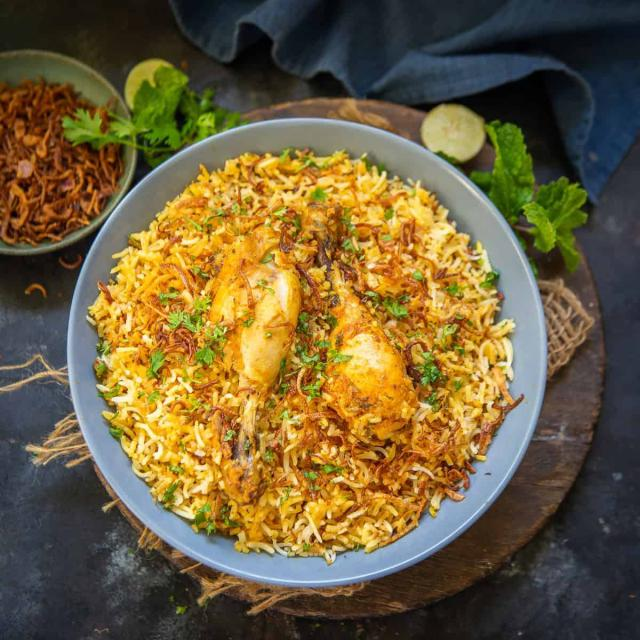chicken biryani: (128, 181, 482, 536)
